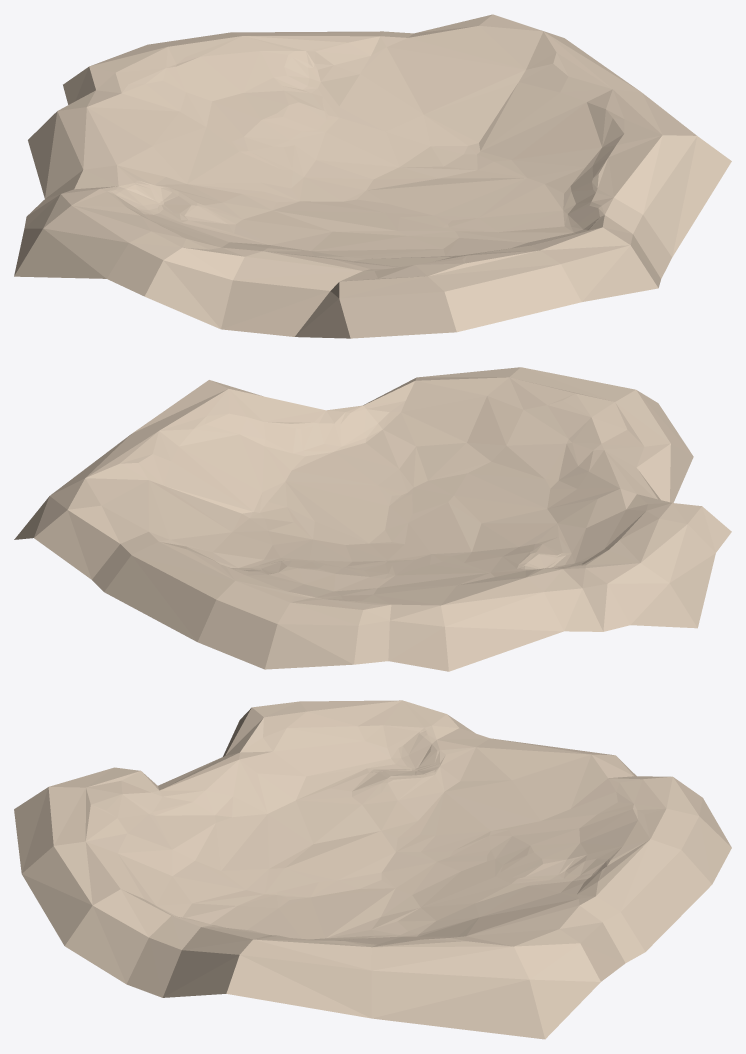
File: Terrain_Dent_005.fbx
3 renders of one model, top to bottom at view 1: azimuth 30°, elevation 25°; view 2: azimuth 150°, elevation 25°; view 3: azimuth 270°, elevation 25°, orthographic. The views are drawn at different scales.
Parts seen in each view (by area): view 1: Terrain_Dent_006; view 2: Terrain_Dent_006; view 3: Terrain_Dent_006.
Boxes of the visible parts, x1,y1,x2,y2 form: Terrain_Dent_006: (14, 14, 731, 338); Terrain_Dent_006: (14, 367, 731, 671); Terrain_Dent_006: (14, 700, 731, 1039).
Bounding box in the file's own units: 91.24 × 11 × 91.03.
